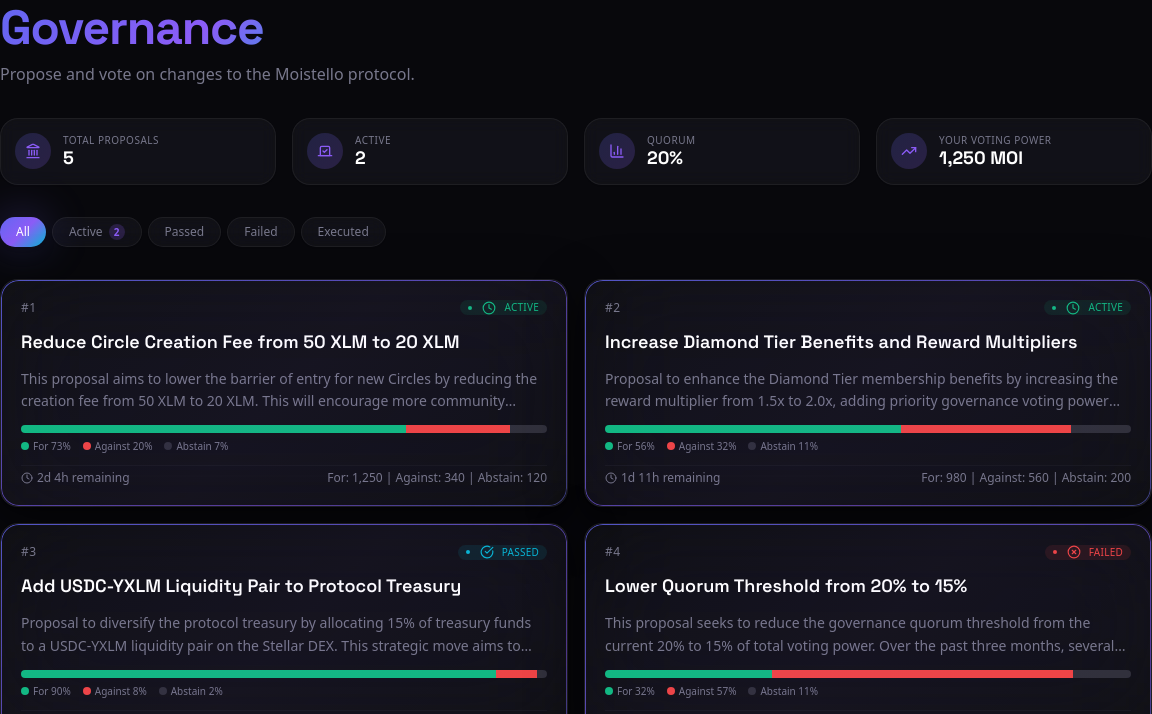
Governance List Interactions › clicking 'Failed' filter shows failed proposals only
This screenshot has width=1152, height=714.
Click the button "Failed" at (261, 232), box x1=227 y1=216 x2=295 y2=246
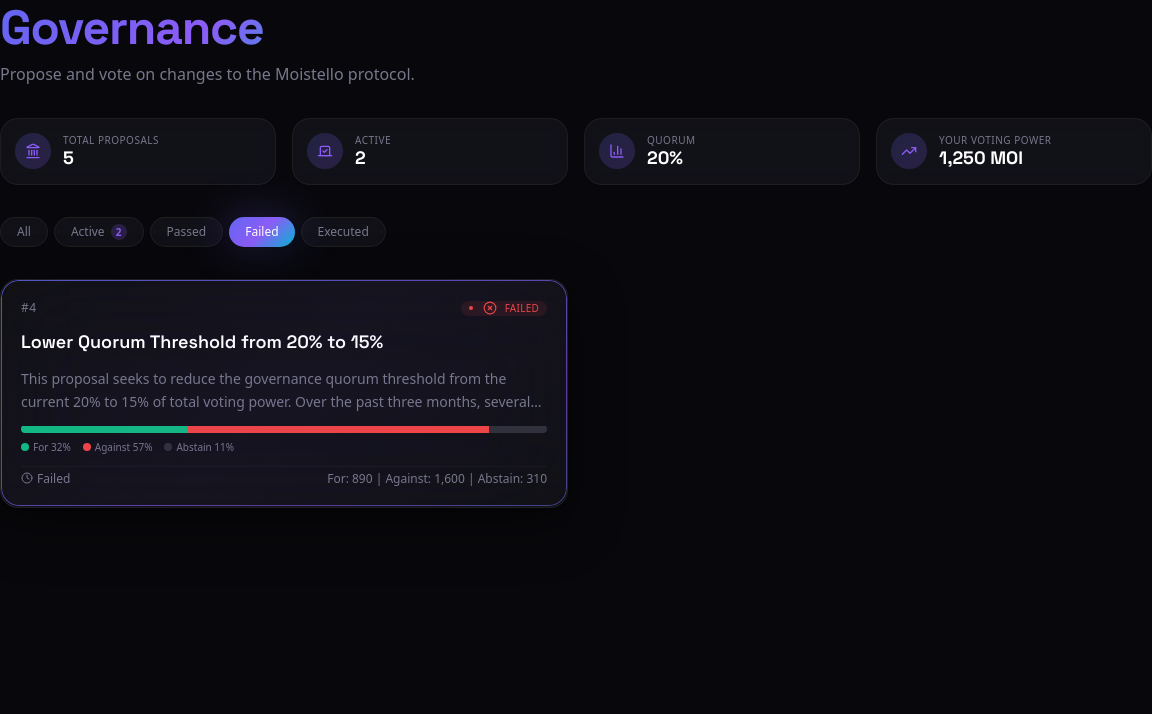
Check: the heading "Lower Quorum Threshold from 20% to 15%" is shown, box x1=21 y1=330 x2=383 y2=352
Check: the heading "Reduce Circle Creation Fee from 50 XLM to 20 XLM" is gone
